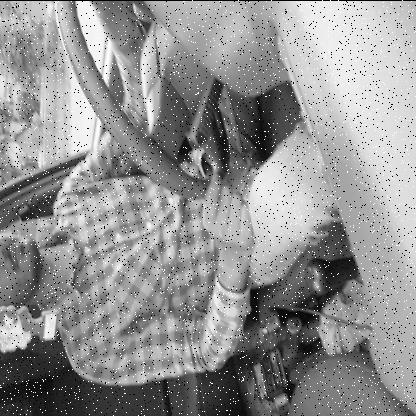no_seatbelt: (1, 186, 190, 314)
